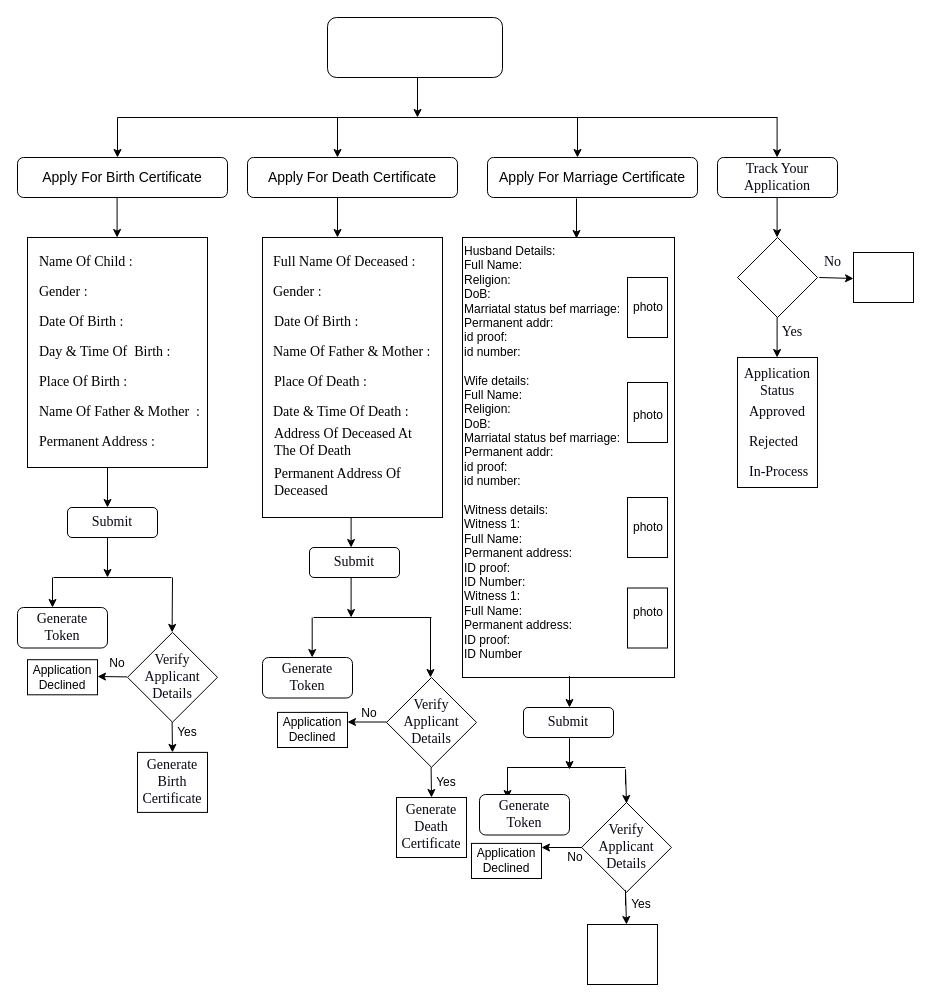
Some shapes in this 931 by 1002 pixel diagram are drawn without their labels. The centre of each missing label's shape, as x and y in pixels:
"Generate Marriage Certificate" belongs at (x=622, y=954).
"Invalid Token No." belongs at (x=883, y=277).
"Online Services" belongs at (x=414, y=47).
"Validate Token No." belongs at (x=777, y=277).
